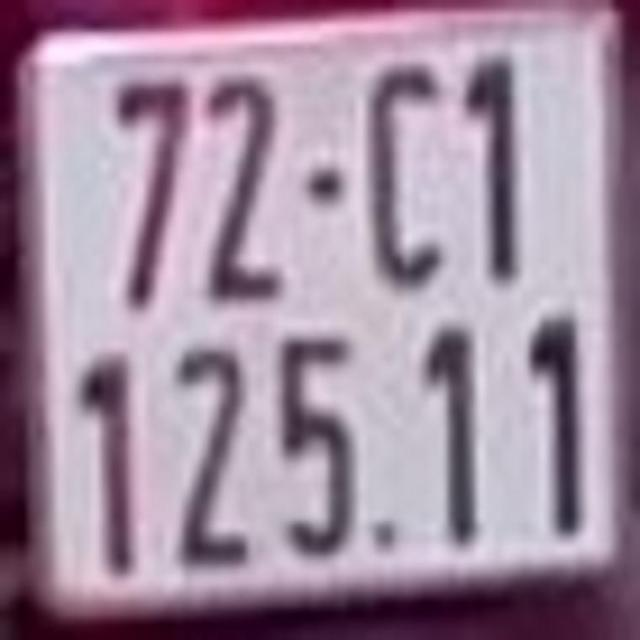1: (72, 346, 140, 575), (458, 48, 522, 282), (528, 304, 587, 538), (419, 320, 481, 540)
2: (163, 343, 249, 571), (202, 72, 282, 309)
5: (272, 328, 356, 556)
7: (112, 75, 188, 308)
C: (363, 58, 443, 285)
